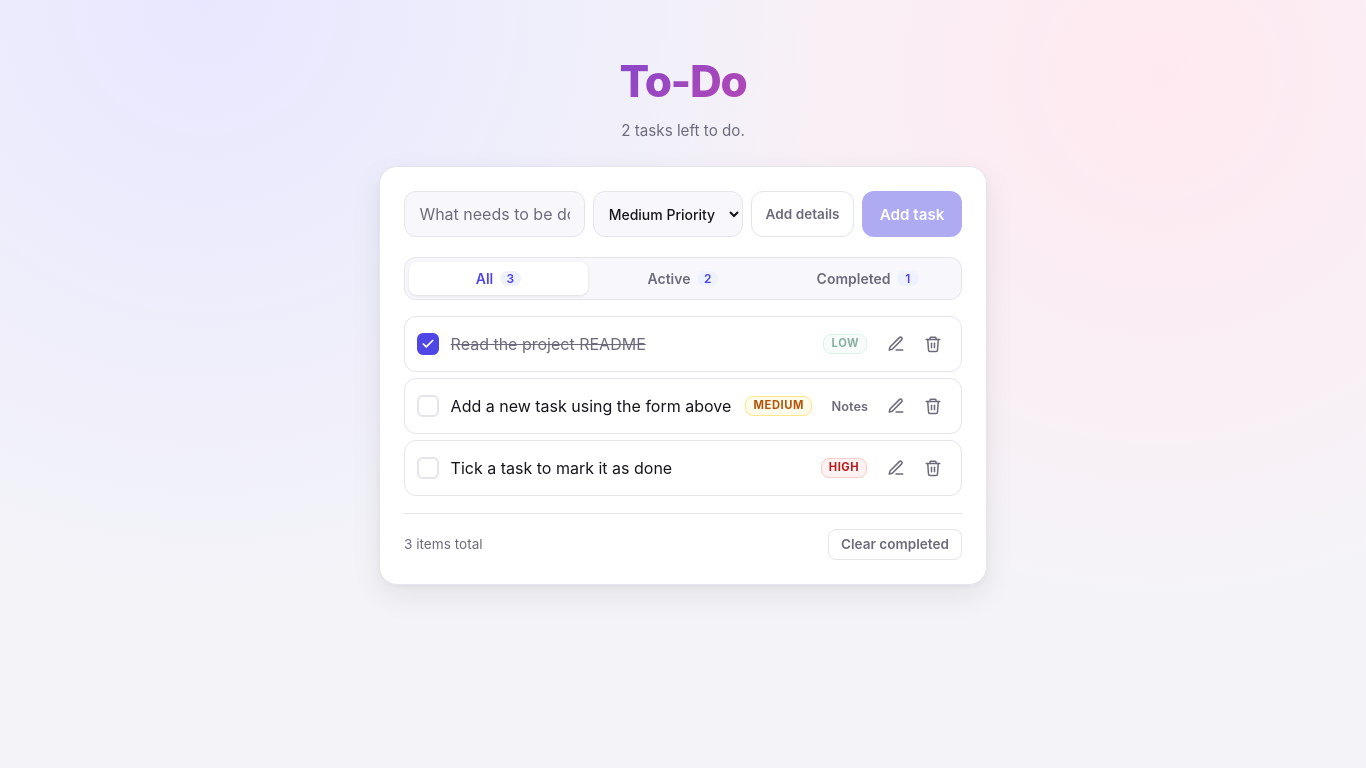
Test: To-do app › shows an empty state when there are no tasks
Click the button "Clear completed": (895, 544) x1=828 y1=529 x2=962 y2=560
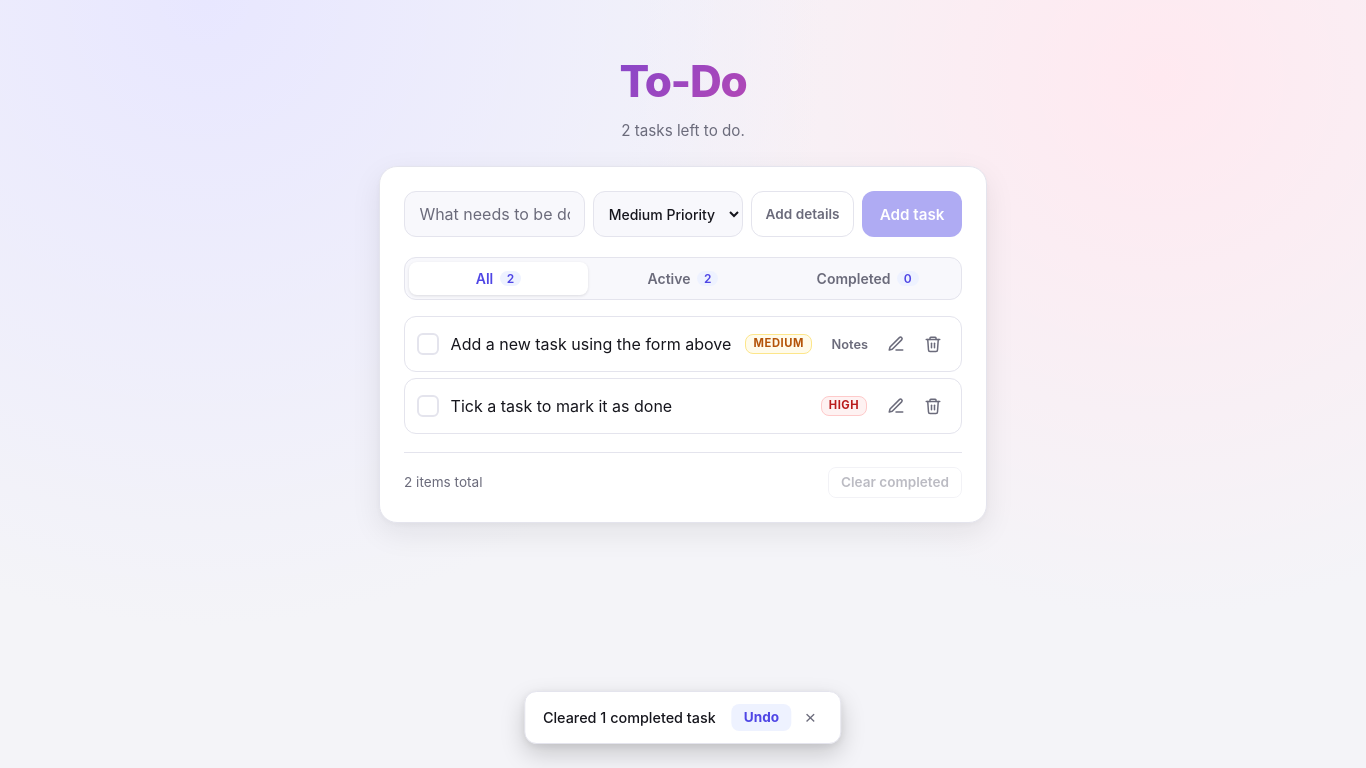
Click the button named "completed tasks": (868, 279) x1=778 y1=262 x2=957 y2=295
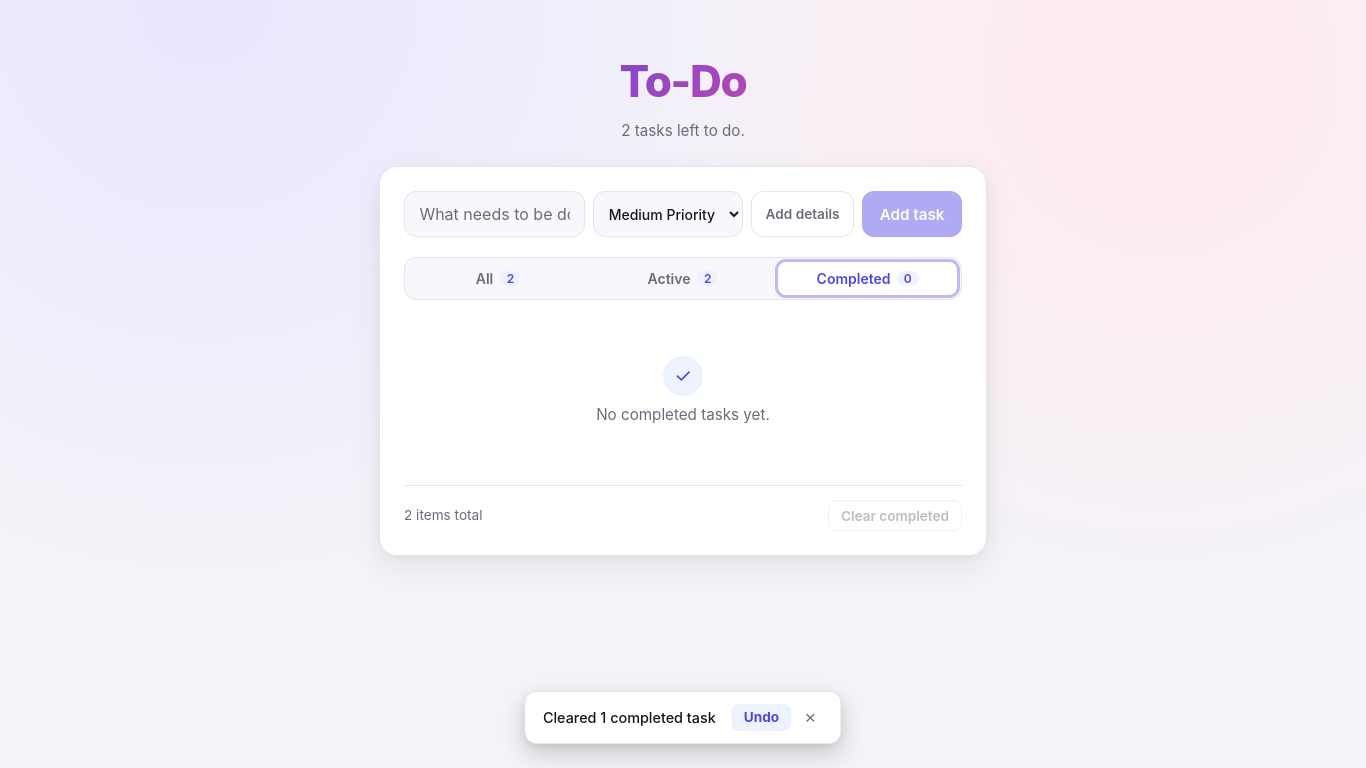
Expected: the text "No completed tasks yet." is shown, x1=596 y1=404 x2=770 y2=427
